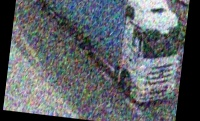truck: (19, 0, 187, 108)
